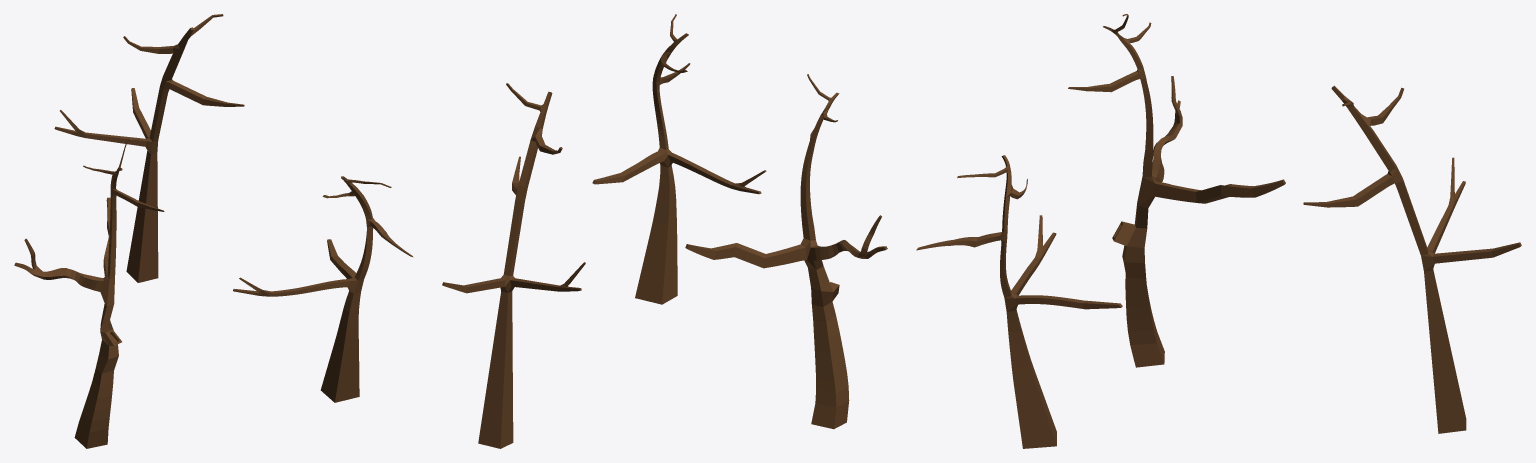
The model's file is agaclar.fbx.
The picture shows the model from 3 angles, left to right: view 1: azimuth 30°, elevation 25°; view 2: azimuth 150°, elevation 25°; view 3: azimuth 270°, elevation 25°; orthographic projection. The views are drawn at different scales.
Parts seen in each view (by area): view 1: Cube, Cube.002, Cube.001; view 2: Cube.002, Cube, Cube.001; view 3: Cube.002, Cube, Cube.001.
Part boxes in pixels (x1,y1,x2,y2): Cube: (54, 14, 244, 282); Cube.002: (14, 139, 164, 448); Cube.001: (233, 176, 413, 402); Cube.002: (685, 74, 887, 429); Cube: (442, 83, 585, 448); Cube.001: (592, 14, 766, 304); Cube.002: (1068, 14, 1285, 367); Cube: (1303, 85, 1521, 433); Cube.001: (916, 155, 1122, 448).
Bounding box in the file's own units: 8.64 × 8.98 × 12.92.
